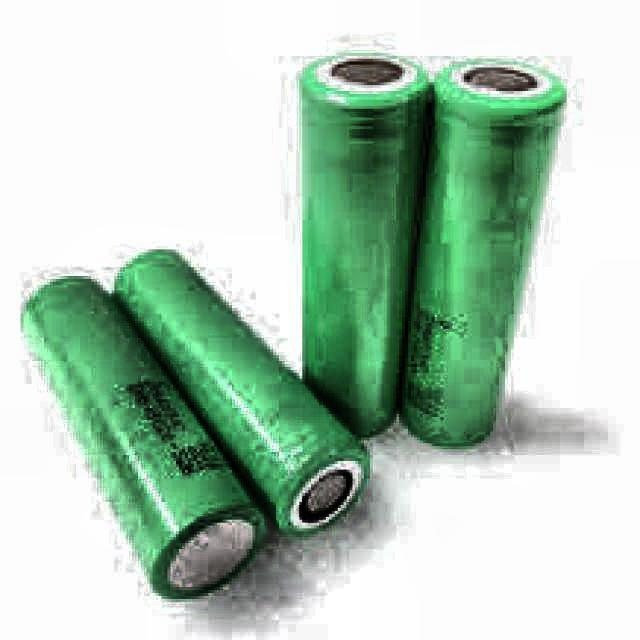Non-Valuable Waste - Batteries: (20, 276, 268, 600), (123, 252, 367, 531), (405, 59, 564, 443), (302, 50, 429, 434)
